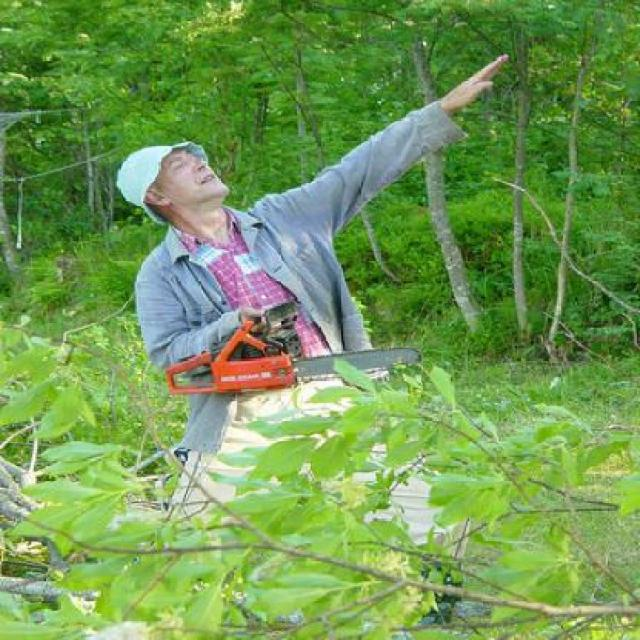Chainsaw: (163, 309, 420, 403)
